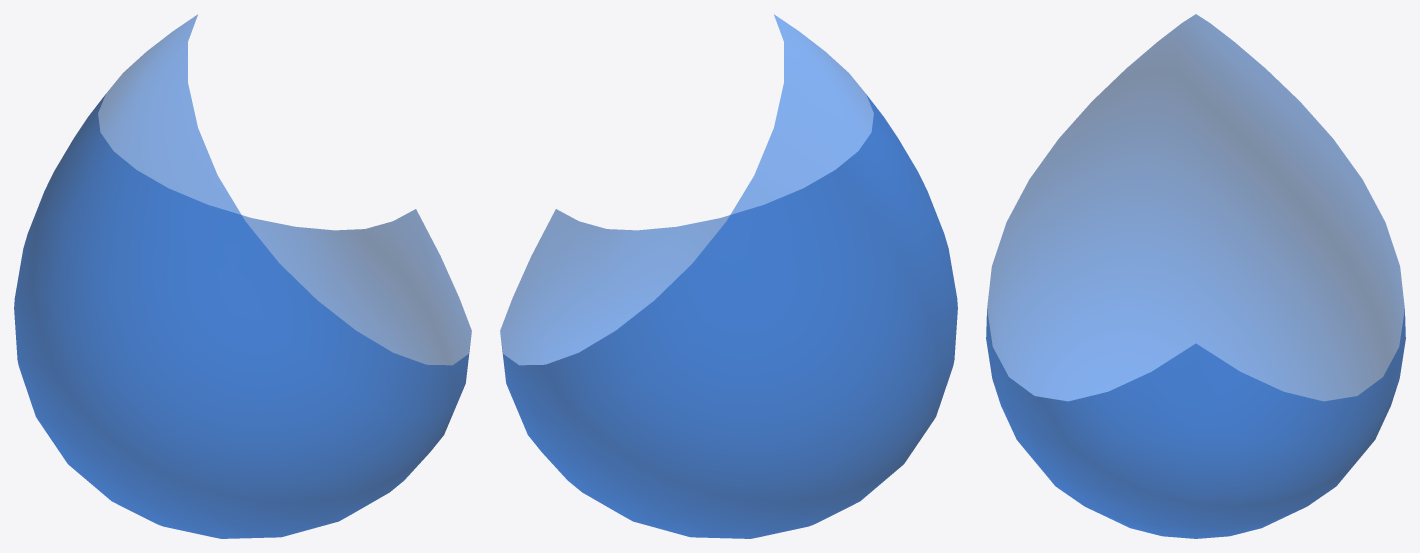
File: Wisp A.dae
3 renders of one model, left to right at view 1: azimuth 30°, elevation 25°; view 2: azimuth 150°, elevation 25°; view 3: azimuth 270°, elevation 25°, orthographic. The views are drawn at different scales.
Parts seen in each view (by area): view 1: Sphere; view 2: Sphere; view 3: Sphere.
Boxes of the visible parts, x1,y1,x2,y2 form: Sphere: (14, 14, 471, 538); Sphere: (500, 14, 957, 538); Sphere: (986, 14, 1405, 538).
Bounding box in the file's own units: 1.54 × 1.52 × 1.91.
